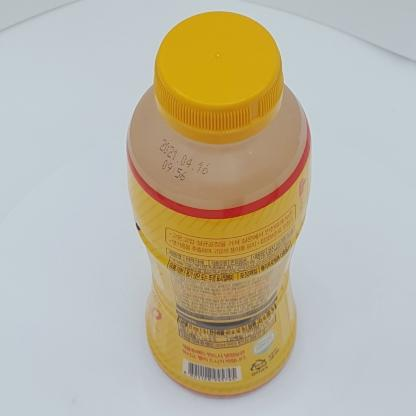------500ML: (125, 11, 312, 399)
